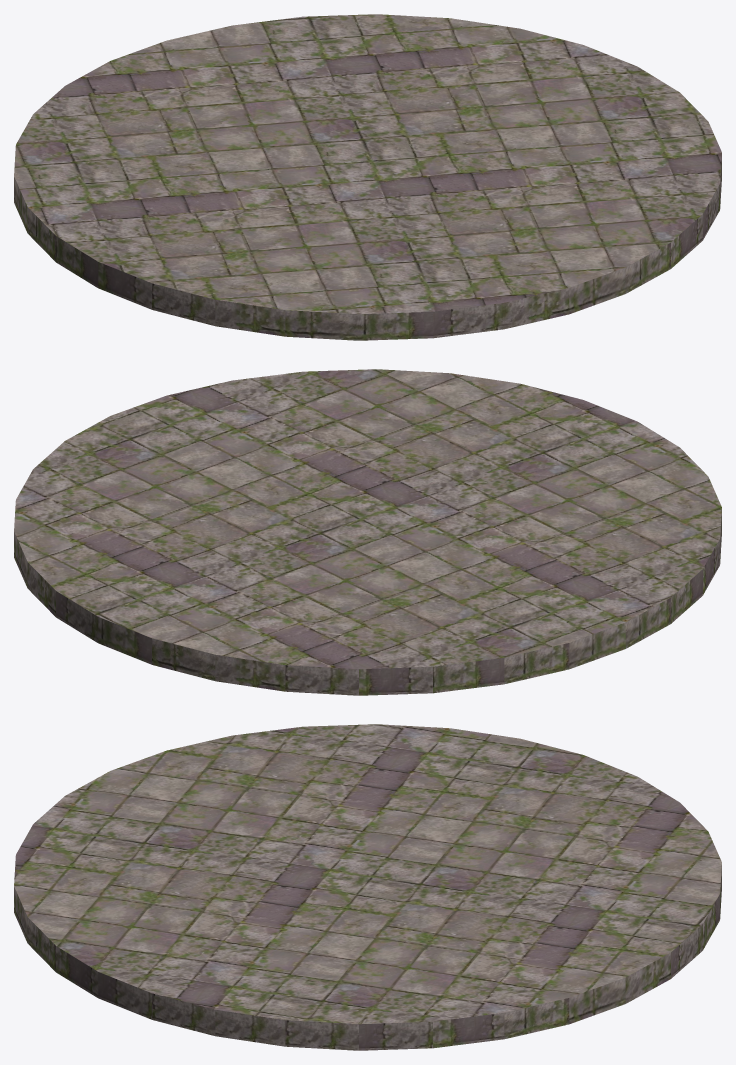
File: Pltfrm3_Cylinder.fbx
3 renders of one model, top to bottom at view 1: azimuth 30°, elevation 25°; view 2: azimuth 150°, elevation 25°; view 3: azimuth 270°, elevation 25°, orthographic.
Visible parts, largest first — view 1: Pltfrm3_Cylinder; view 2: Pltfrm3_Cylinder; view 3: Pltfrm3_Cylinder.
Boxes of the visible parts, x1,y1,x2,y2 form: Pltfrm3_Cylinder: [14, 14, 721, 340]; Pltfrm3_Cylinder: [14, 369, 721, 695]; Pltfrm3_Cylinder: [14, 724, 721, 1050].
Size of the model in its own units: 2423 by 100 by 2416.
